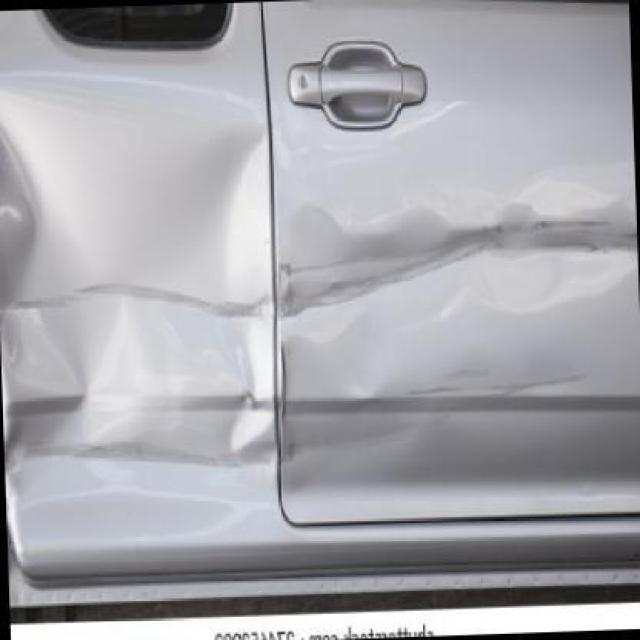dent: (2, 76, 272, 549), (285, 205, 631, 315)
